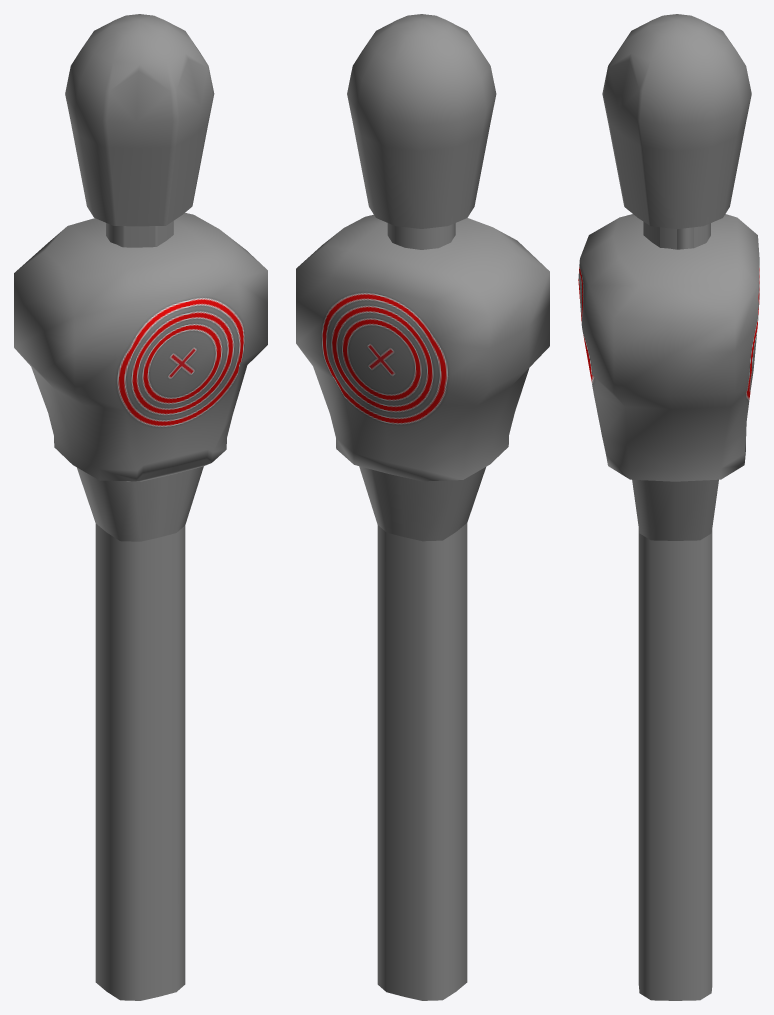
Rendered from Dummy Doll.FBX.
3 views of the same model, side by side, from view 1: azimuth 30°, elevation 25°; view 2: azimuth 150°, elevation 25°; view 3: azimuth 270°, elevation 25° (orthographic).
Visible parts, largest first — view 1: dummy_hips3_dummy_belly_dummy_torso; view 2: dummy_hips3_dummy_belly_dummy_torso; view 3: dummy_hips3_dummy_belly_dummy_torso.
Part boxes in pixels (left/top/right/bottom): dummy_hips3_dummy_belly_dummy_torso: left=14, top=14, right=267, bottom=1000; dummy_hips3_dummy_belly_dummy_torso: left=296, top=14, right=549, bottom=1000; dummy_hips3_dummy_belly_dummy_torso: left=578, top=14, right=759, bottom=1000.
Bounding box in the file's own units: 29.3 × 131 × 22.27.
1 material, 1 textured.
